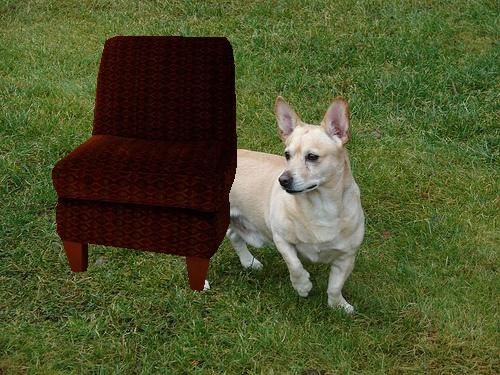tampered: (53, 36, 237, 291)
